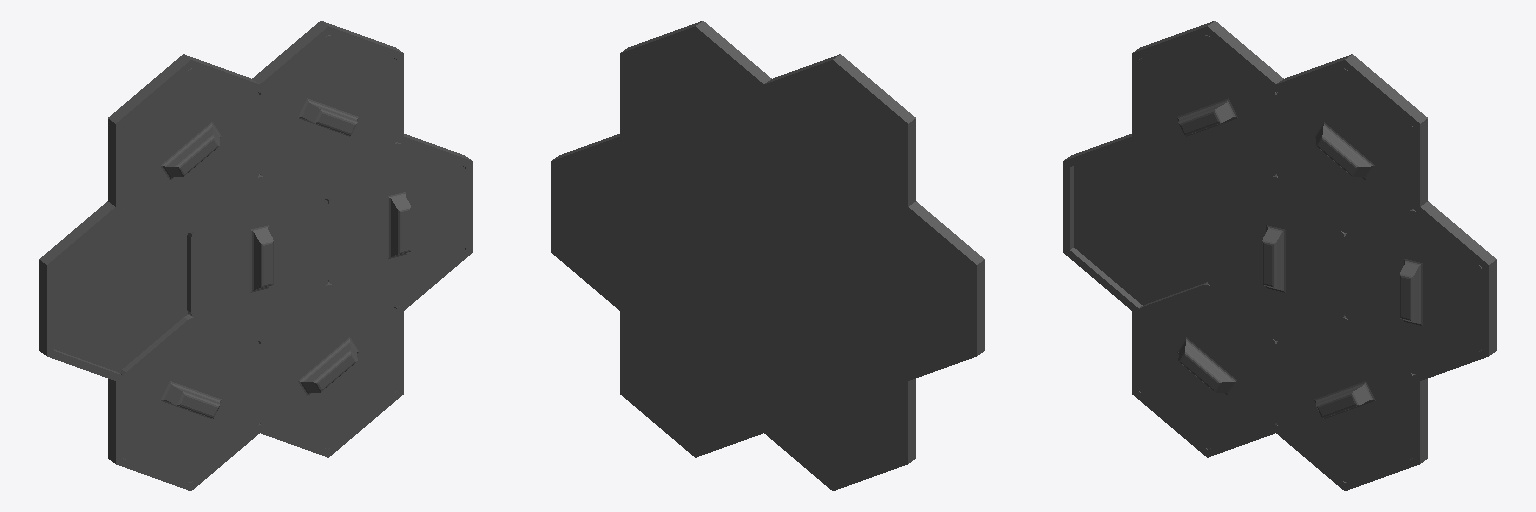
URDF robot description (5_6_major):
<?xml version="1.0" encoding="utf-8"?>
<!-- This URDF was automatically created by SolidWorks to URDF Exporter! Originally created by [author] ([email redacted]) 
     Commit Version: 1.6.0-1-g15f4949  Build Version: 1.6.7594.29634
     For more information, please see http://wiki.ros.org/sw_urdf_exporter -->
<robot
  name="5_6_major">
  <gazebo reference="base_link">
     <material>Gazebo/White</material>
     <turnGravityOff>false</turnGravityOff>
  </gazebo>
  <link
    name="base_link">
    <inertial>
      <origin
        xyz="0.0147102147893285 -2.38101251419666E-11 0.0103064405487826"
        rpy="0 0 0" />
      <mass
        value="5.09669657316974" />
      <inertia
        ixx="0.071341152721207"
        ixy="-3.03458023683326E-17"
        ixz="-1.09049379071588E-12"
        iyy="0.071341152721207"
        iyz="-6.2959876250727E-13"
        izz="0.142486090385206" />
    </inertial>
    <visual>
      <origin
        xyz="0 0 0"
        rpy="0 0 0" />
      <geometry>
        <mesh
          filename="package://5_6_major/meshes/base_link.STL" />
      </geometry>
      <material
        name="White">
        <color
          rgba="0.4 0.4 0.4 1.0" />
      </material>
    </visual>
    <collision>
      <origin
        xyz="0 0 0"
        rpy="0 0 0" />
      <geometry>
        <mesh
          filename="package://5_6_major/meshes/base_link.STL" />
      </geometry>
    </collision>
  </link>
</robot>

--- Facts derived from the render (not from the file) ---
3 views of the same robot in one strip: view 1: azimuth 30°, elevation 25°; view 2: azimuth 150°, elevation 25°; view 3: azimuth 330°, elevation 25° (orthographic).
Robot: 5_6_major — 1 links, 0 joints (none); root link base_link; default pose: all joints at 0.
Visible links, largest first — view 1: base_link; view 2: base_link; view 3: base_link.
Boxes of the visible links, box(x1,y1,x2,y2) form: base_link: box(39, 21, 472, 490); base_link: box(551, 21, 984, 490); base_link: box(1063, 21, 1496, 490).
Size in the robot's own frame: 0.62 by 0.04 by 0.6004 metres.
1 mesh visuals loaded from 1 distinct referenced files (1 binary STL).